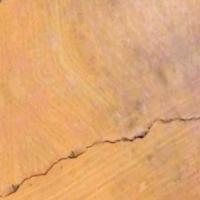crack: (1, 89, 199, 199)
